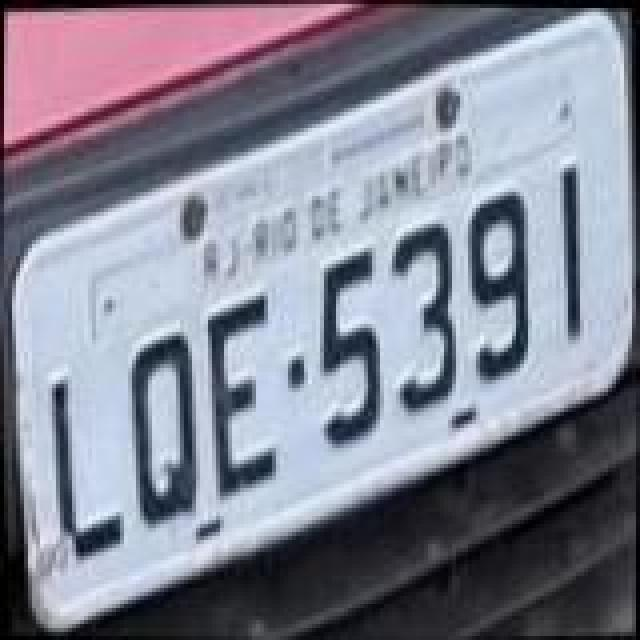1: (552, 156, 588, 340)
3: (384, 218, 464, 414)
5: (312, 244, 392, 448)
9: (456, 186, 536, 386)
E: (198, 284, 278, 500)
L: (44, 372, 128, 564)
Q: (122, 328, 202, 532)
